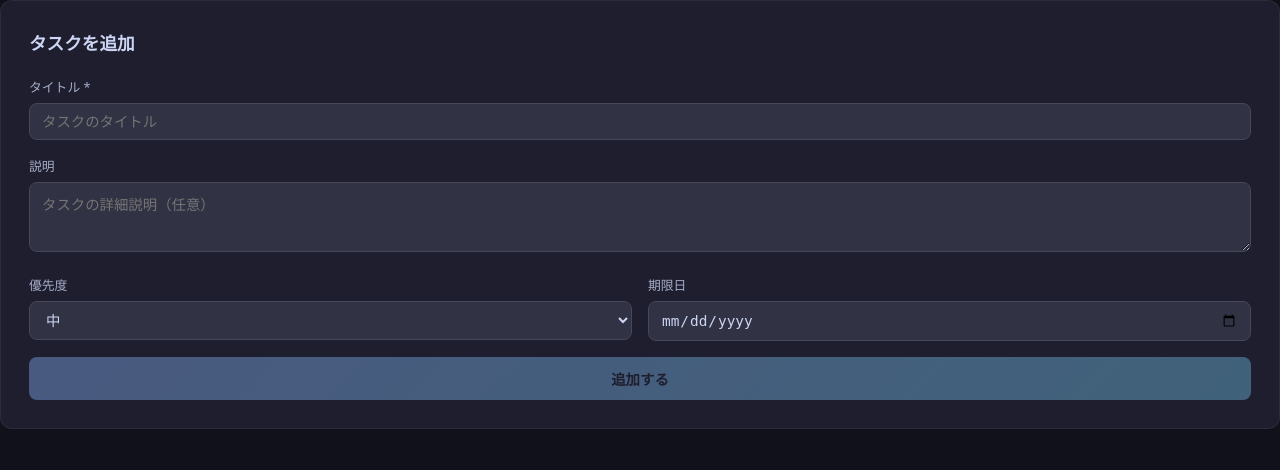
Test: TaskForm.vue › バリデーション › タイトル入力後にblurでバリデーションが走る
The image size is (1280, 470).
一度値を入れてからblurでdirtyにし、その後空にする
Type "a" into the field with test id "input-title" at (640, 122), box 29,103 -> 1251,140
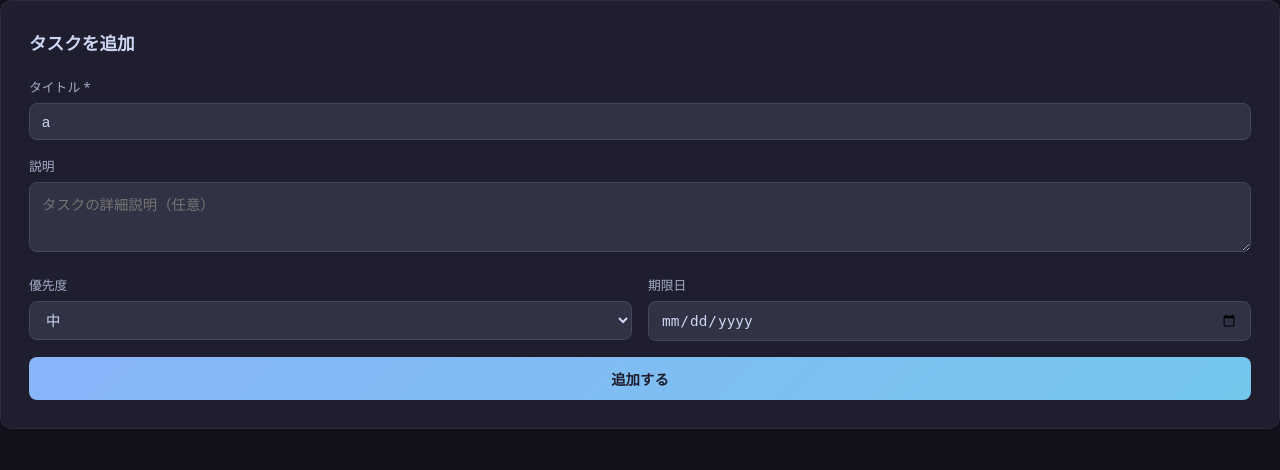
Clear the field with test id "input-title" at (640, 122), box 29,103 -> 1251,140
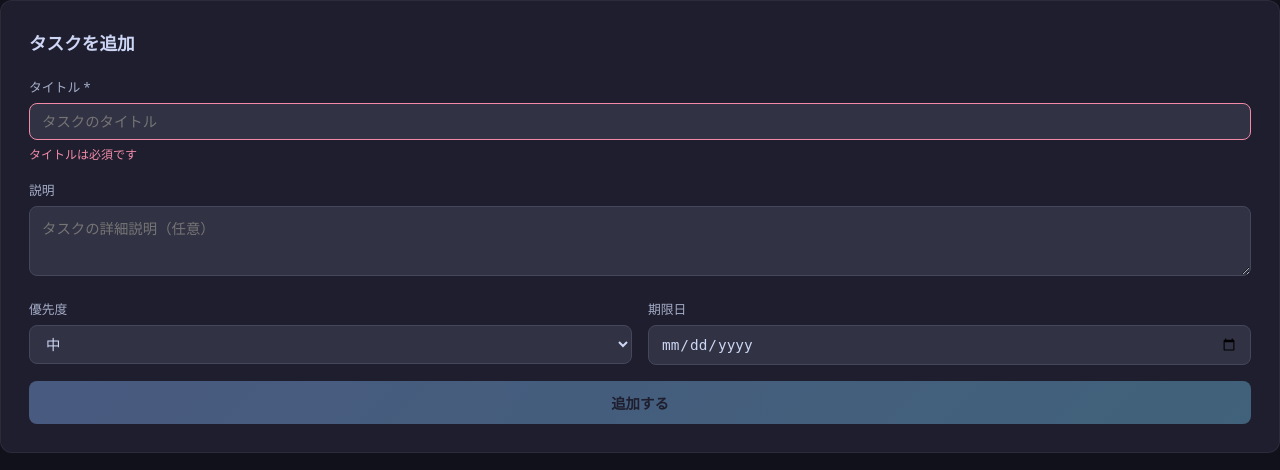
Result: the text "タイトルは必須です" is shown at 29,146 -> 137,163
